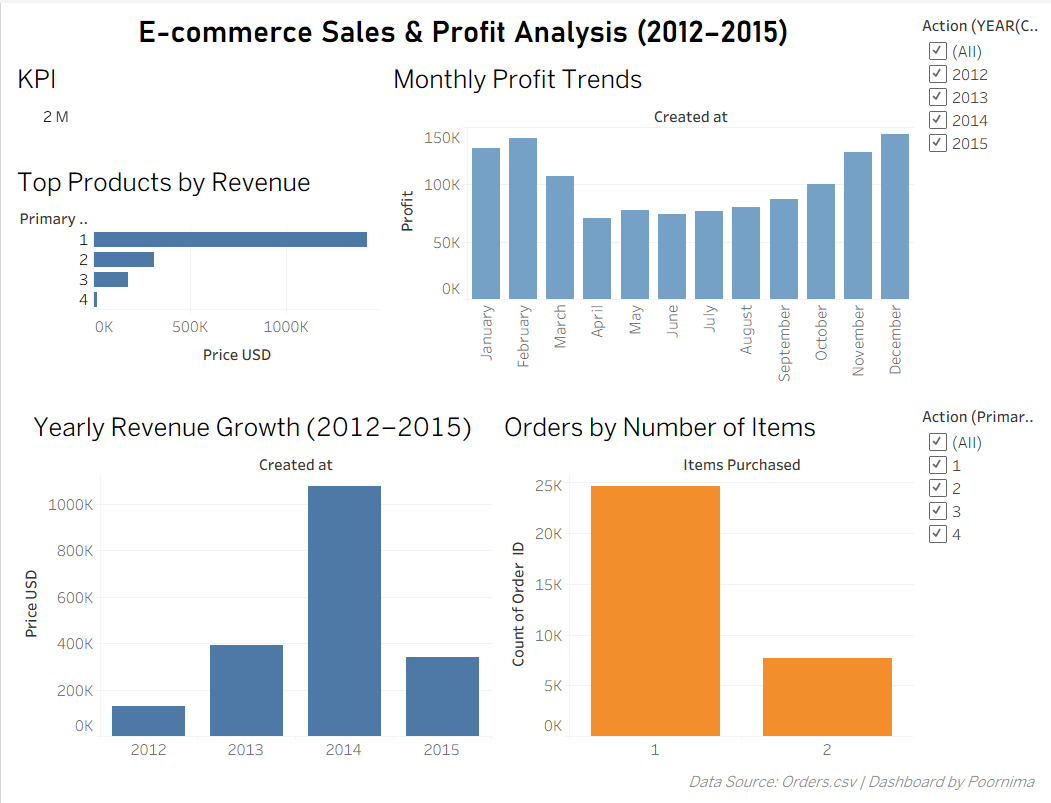

Layout of this report page (visuals, bound fields, positions):
{"tool":"tableau","page":{"name":"E-commerce Sales & Profit Analysis (2012–2015)","canvas":[1000,1000],"units":"permille","ordinal":1},"visuals":[{"type":"title","box":[7.6,10,865.7,54.9]},{"type":"filter","title":"Sheet 3","param":"[federated.1n4b6eh0akhaze16fxxhv0csbgyv].[Action (YEAR(Created at))]","box":[873.3,10,119,488]},{"type":"worksheet","title":"Sheet 5","mark":"Automatic","box":[7.6,64.8,358.2,129]},{"type":"worksheet","title":"Sheet 3","mark":"Bar","rows":["Calculation_1338976514070478850"],"cols":["F2 (orders.csv)"],"box":[365.9,64.8,507.5,434.3]},{"type":"worksheet","title":"Sheet 4","mark":"Automatic","rows":["F5 (orders.csv)"],"cols":["F7 (orders.csv)"],"box":[7.6,193.8,358.2,305.4]},{"type":"filter","title":"Sheet 2","param":"[federated.1n4b6eh0akhaze16fxxhv0csbgyv].[Action (Primary Product ID)]","box":[873.3,498,119,431.4]},{"type":"worksheet","title":"Sheet 1","mark":"Bar","rows":["F7 (orders.csv)"],"cols":["F2 (orders.csv)"],"box":[7.6,499.2,463.4,450.9]},{"type":"worksheet","title":"Sheet 2","mark":"Automatic","rows":["F1 (orders.csv)"],"cols":["F6 (orders.csv)"],"box":[471,499.2,402.4,450.9]},{"type":"text","box":[7.6,950.1,984.8,39.9]}]}

Visuals, with their boxes on the dashboard's canvas, which has no fixed pixel size, in thousandths of its width and height (x1, y1, x2, y2). These are canvas units, not pixel positions in the 1051x803 screenshot, which may show the page scaled, cropped or inside an application window:
title: 8:10:873:65
"Sheet 3" filter: 873:10:992:498
"Sheet 5" worksheet: 8:65:366:194
"Sheet 3" worksheet (Bar marks): 366:65:873:499
"Sheet 4" worksheet: 8:194:366:499
"Sheet 2" filter: 873:498:992:929
"Sheet 1" worksheet (Bar marks): 8:499:471:950
"Sheet 2" worksheet: 471:499:873:950
text: 8:950:992:990
